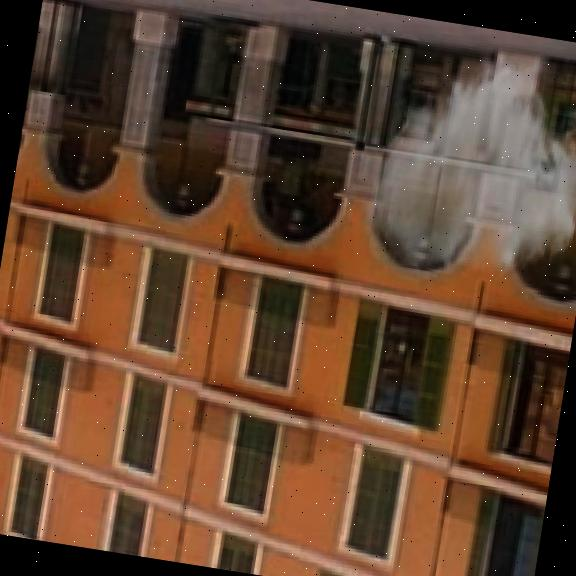smoke: (356, 28, 576, 303)
